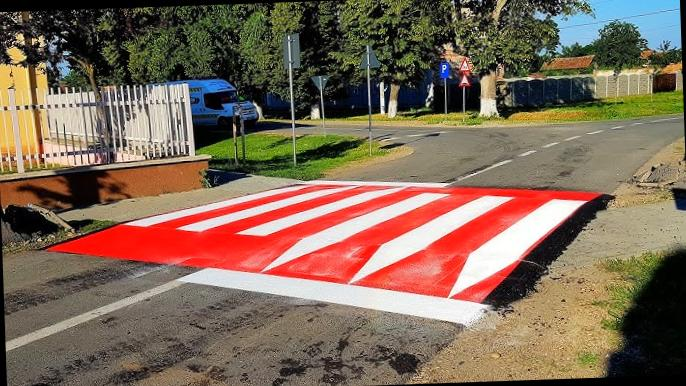faded_road_lines: (259, 114, 396, 136), (377, 126, 456, 142)
